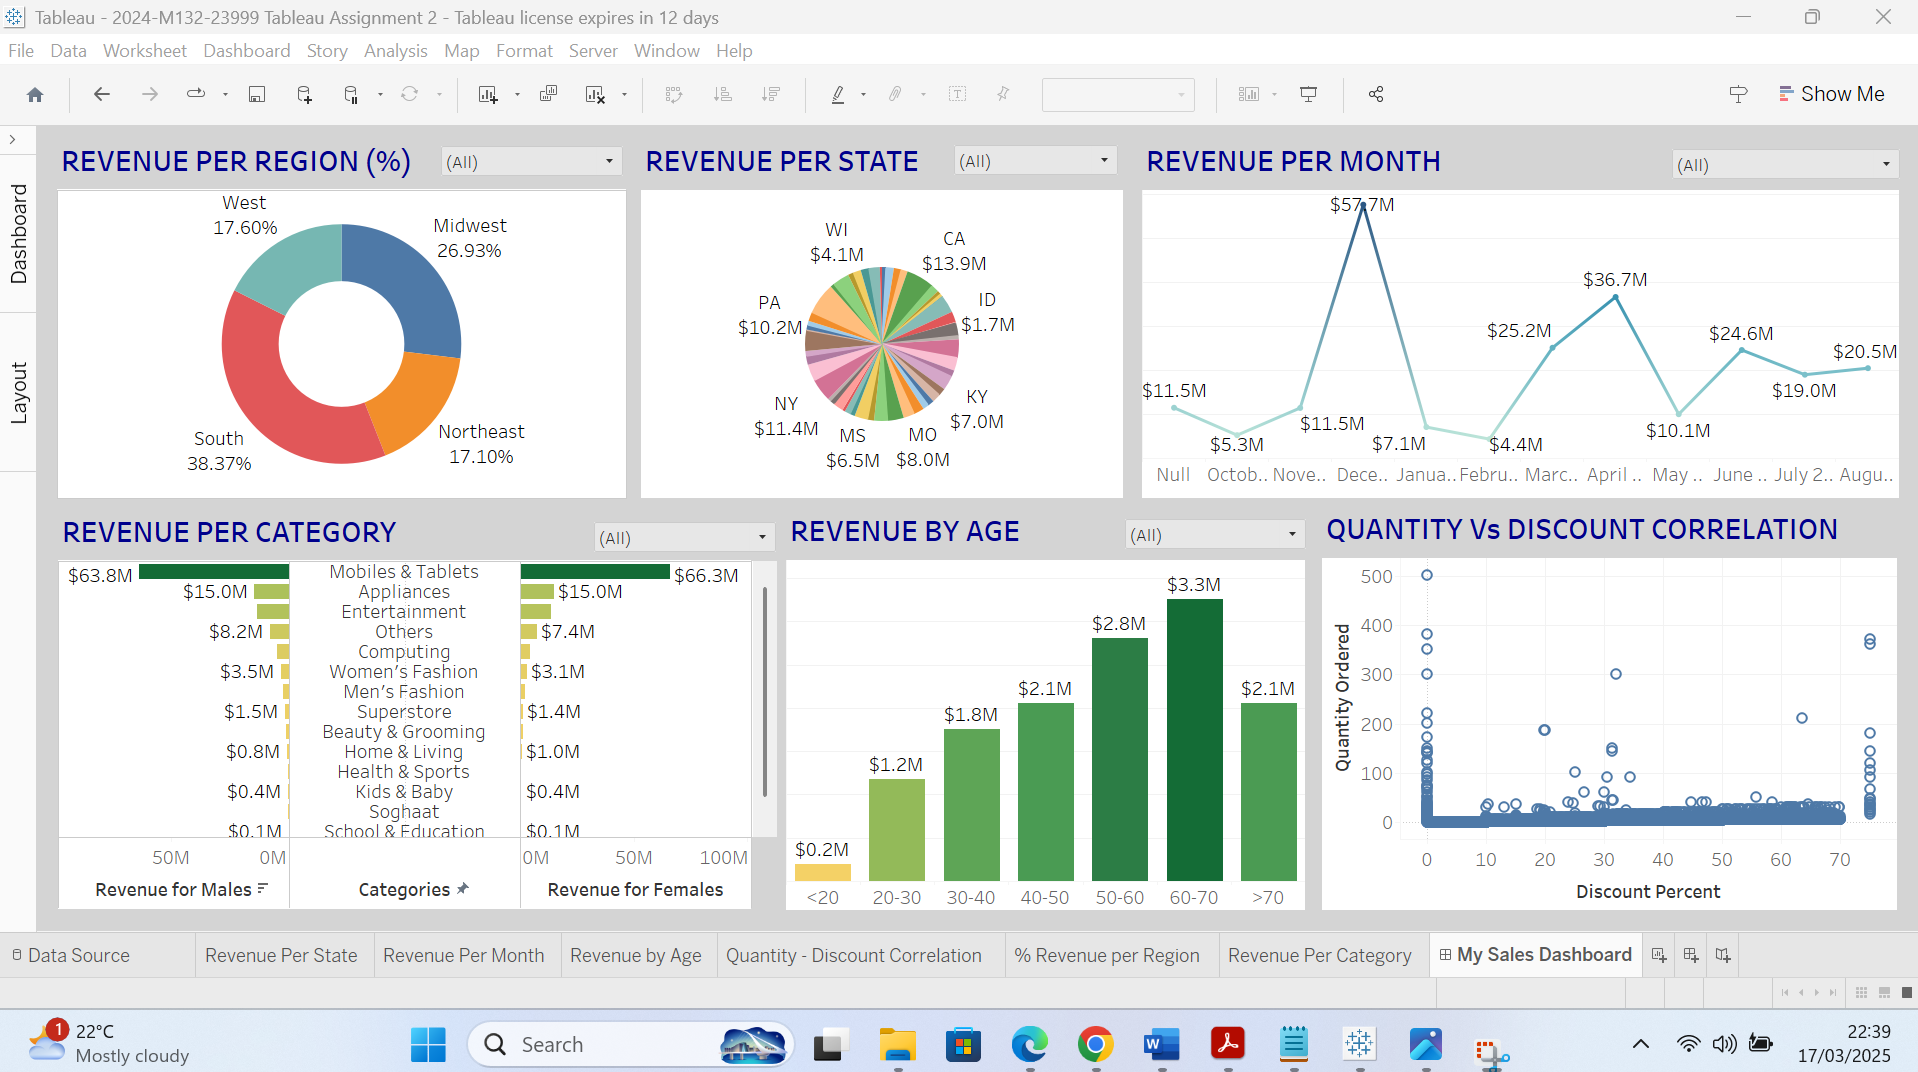

The page's visual inventory and layout, read from the dashboard file:
{"tool":"tableau","page":{"name":"My Sales Dashboard","canvas":[1000,1000],"units":"permille","ordinal":0},"visuals":[{"type":"worksheet","title":"% Revenue per Region","mark":"Pie","rows":["Calculation_998954750056755203","Calculation_998954750056755203"],"box":[10.6,13.7,303,450.4]},{"type":"worksheet","title":"Revenue Per State","mark":"Pie","box":[321.1,13.7,256.2,449.1]},{"type":"worksheet","title":"Revenue Per Month","mark":"Automatic","rows":["total"],"cols":["month"],"box":[587.3,13.7,402.1,449.1]},{"type":"filter","title":"Revenue by Age","param":"[federated.17vzoqb0uy6kks19izl8n02ihrt0].[none:Age (bin):ok]","box":[576.5,452.9,99.4,83.1]},{"type":"filter","title":"Revenue Per Category","param":"[federated.17vzoqb0uy6kks19izl8n02ihrt0].[none:category:nk]","box":[294.4,457.8,99.9,75.7]},{"type":"worksheet","title":"Quantity Vs Discount Correlation","mark":"Automatic","rows":["qty_ordered"],"cols":["Discount_Percent"],"box":[682.8,470.2,305.5,503.7]},{"type":"worksheet","title":"Revenue by Age","mark":"Automatic","rows":["age"],"cols":["Age (bin)"],"box":[397.8,472.7,276.2,501.2]},{"type":"worksheet","title":"Revenue Per Category","mark":"Automatic","rows":["category"],"cols":["Calculation_998954750002372609","Calculation_998954750003204098","Calculation_998954750001659904"],"box":[11.2,473.9,382,498.8]}]}

Visuals, with their boxes on the dashboard's canvas, which has no fixed pixel size, in thousandths of its width and height (x1, y1, x2, y2). These are canvas units, not pixel positions in the 1918x1072 screenshot, which may show the page scaled, cropped or inside an application window:
"% Revenue per Region" worksheet (Pie marks): x1=11, y1=14, x2=314, y2=464
"Revenue Per State" worksheet (Pie marks): x1=321, y1=14, x2=577, y2=463
"Revenue Per Month" worksheet: x1=587, y1=14, x2=989, y2=463
"Revenue by Age" filter: x1=576, y1=453, x2=676, y2=536
"Revenue Per Category" filter: x1=294, y1=458, x2=394, y2=534
"Quantity Vs Discount Correlation" worksheet: x1=683, y1=470, x2=988, y2=974
"Revenue by Age" worksheet: x1=398, y1=473, x2=674, y2=974
"Revenue Per Category" worksheet: x1=11, y1=474, x2=393, y2=973
